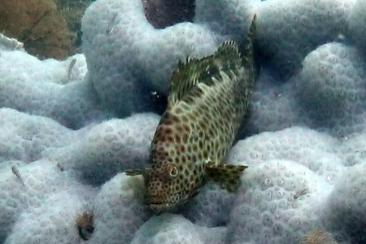Serranidae -Groupers-: (123, 9, 261, 216)
